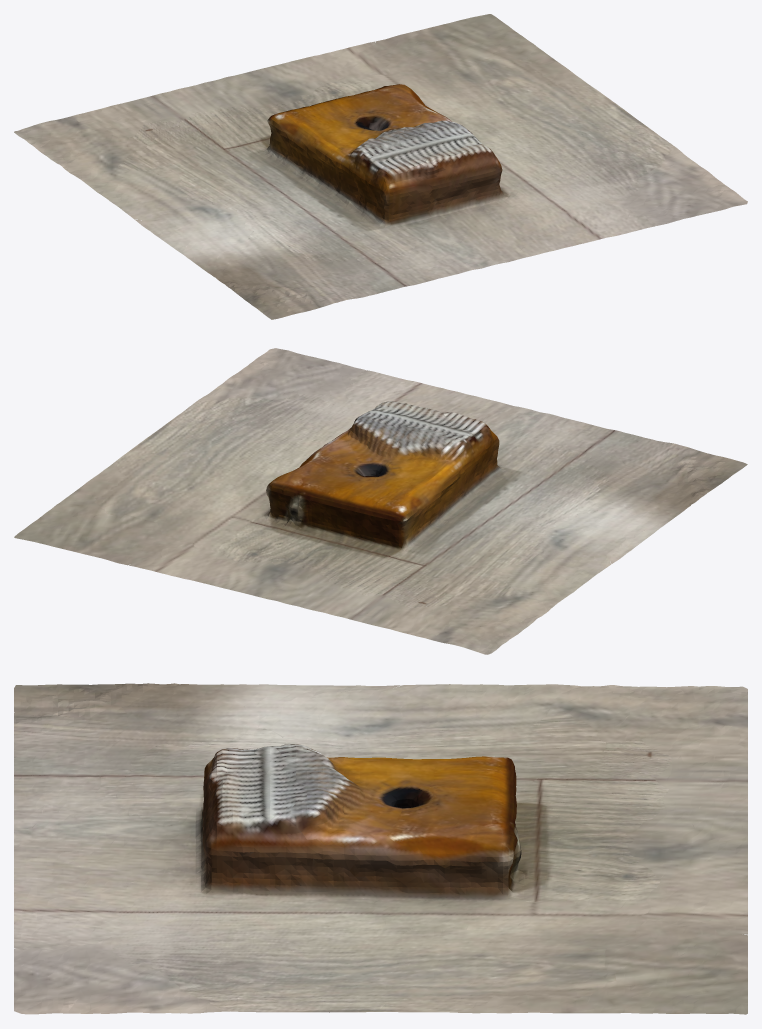
The model's file is mbo_plucked_instruments_moozica.glb.
The picture shows the model from 3 angles, top to bottom: view 1: azimuth 30°, elevation 25°; view 2: azimuth 150°, elevation 25°; view 3: azimuth 270°, elevation 25°; orthographic projection. The views are drawn at different scales.
Bounding box in the file's own units: 0.4723 × 0.0516 × 0.4449.
Materials: 1 (1 with a texture image).
